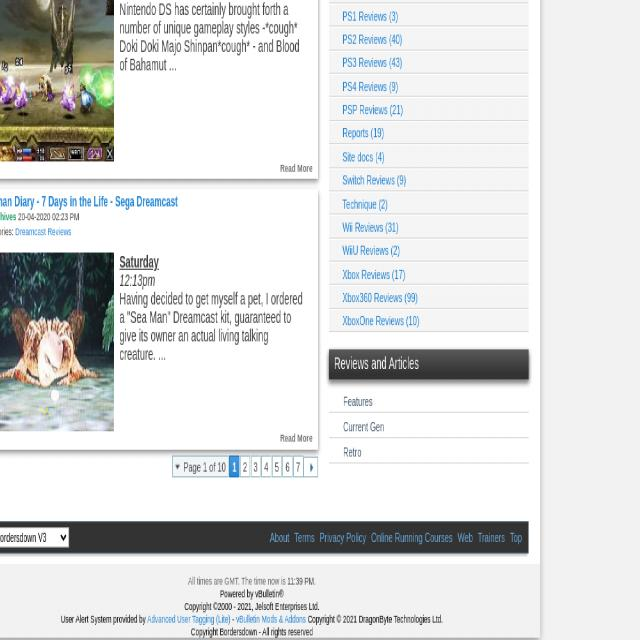button: (0, 251, 114, 429), (0, 0, 114, 160), (172, 456, 228, 476), (304, 456, 318, 476), (229, 455, 239, 478), (282, 454, 292, 476), (272, 455, 282, 477), (261, 456, 271, 478), (240, 457, 250, 476), (251, 456, 260, 476), (293, 458, 303, 475)
field: (0, 526, 69, 547)
